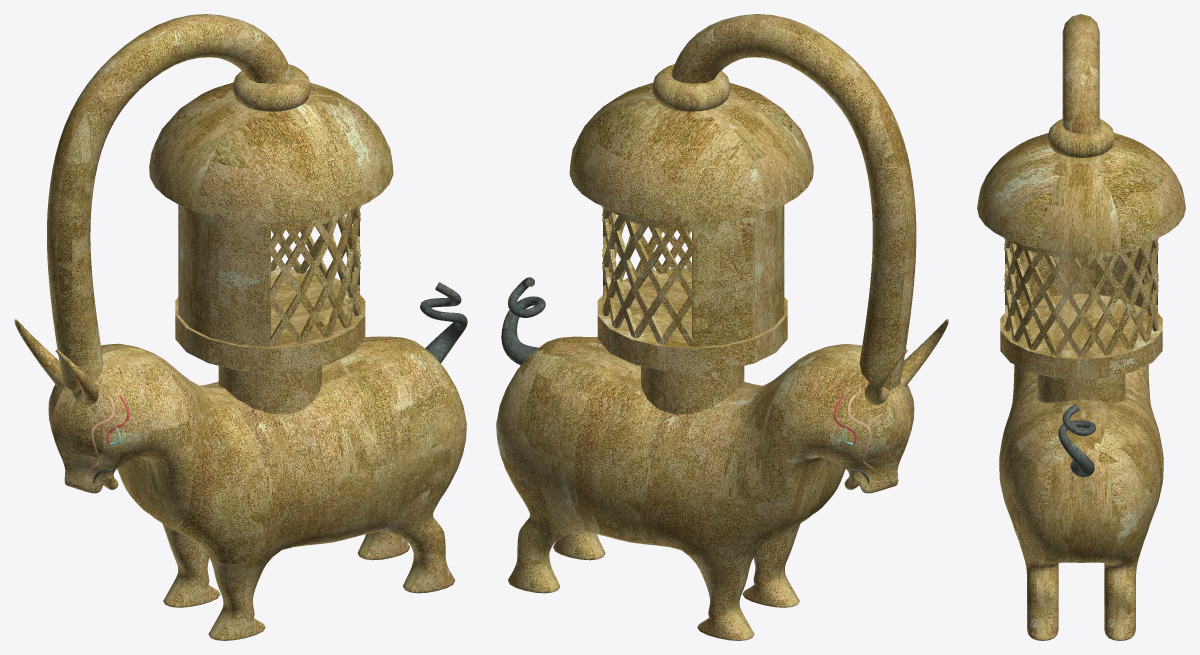
3 renders of one model, left to right at view 1: azimuth 30°, elevation 25°; view 2: azimuth 150°, elevation 25°; view 3: azimuth 270°, elevation 25°, orthographic. The views are drawn at different scales.
Parts seen in each view (by area): view 1: Box03, Sphere10, Line168, Cylinder04, Cylinder03, Shape09, Box07, Cylinder01, Torus01, Loft01, Cylinder05, Cone03 (+1 smaller); view 2: Box07, Sphere10, Line168, Cylinder04, Cylinder03, Shape09, Box03, Cylinder01, Torus01, Loft01, Cylinder05, Cone02 (+1 smaller); view 3: Sphere10, Box07, Box03, Shape09, Cylinder03, Line168, Cylinder04, Cylinder01, Torus01, Loft01, Cylinder05.
Part boxes in pixels (bbox=[...]): Box03: bbox=[52, 339, 466, 640]; Sphere10: bbox=[149, 82, 393, 222]; Line168: bbox=[47, 14, 291, 391]; Cylinder04: bbox=[178, 204, 270, 347]; Cylinder03: bbox=[175, 267, 365, 372]; Shape09: bbox=[270, 206, 360, 346]; Box07: bbox=[48, 336, 416, 607]; Cylinder01: bbox=[218, 366, 321, 414]; Torus01: bbox=[232, 64, 311, 111]; Loft01: bbox=[420, 282, 467, 363]; Cylinder05: bbox=[184, 207, 355, 230]; Cone03: bbox=[14, 319, 62, 386]; Box07: bbox=[496, 339, 910, 640]; Sphere10: bbox=[569, 83, 813, 222]; Line168: bbox=[671, 14, 916, 390]; Cylinder04: bbox=[692, 205, 784, 347]; Cylinder03: bbox=[597, 267, 787, 372]; Shape09: bbox=[602, 206, 692, 346]; Box03: bbox=[546, 336, 914, 607]; Cylinder01: bbox=[641, 366, 744, 414]; Torus01: bbox=[651, 64, 730, 111]; Loft01: bbox=[501, 277, 545, 365]; Cylinder05: bbox=[607, 207, 778, 231]; Cone02: bbox=[900, 319, 948, 386]; Sphere10: bbox=[977, 133, 1185, 252]; Box07: bbox=[1081, 364, 1163, 640]; Box03: bbox=[999, 364, 1081, 640]; Shape09: bbox=[1004, 238, 1158, 357]; Cylinder03: bbox=[1000, 294, 1162, 379]; Line168: bbox=[1062, 14, 1099, 133]; Cylinder04: bbox=[1015, 245, 1147, 307]; Cylinder01: bbox=[1037, 374, 1125, 402]; Torus01: bbox=[1047, 119, 1114, 157]; Loft01: bbox=[1058, 404, 1095, 477]; Cylinder05: bbox=[1009, 240, 1153, 258].
Bounding box in the file's own units: 1129 × 1529 × 562.
Materials: 12 (9 with a texture image).
